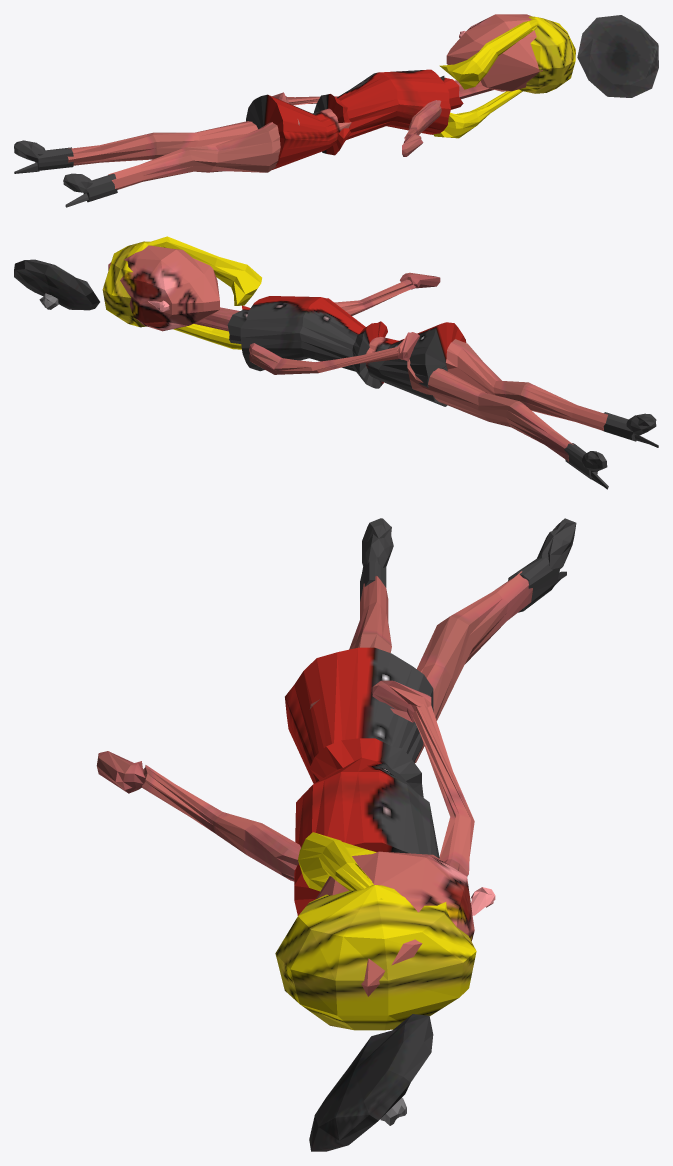
Rendered from RogaSlp.glb.
3 renders of one model, top to bottom at view 1: azimuth 30°, elevation 25°; view 2: azimuth 150°, elevation 25°; view 3: azimuth 270°, elevation 25°, orthographic. The views are drawn at different scales.
Parts seen in each view (by area): view 1: RogaSlp; view 2: RogaSlp; view 3: RogaSlp.
Part boxes in pixels (<box>): RogaSlp: <box>14,14,658,207</box>; RogaSlp: <box>14,236,658,489</box>; RogaSlp: <box>96,518,576,1151</box>.
Bounding box in the file's own units: 313 × 47.66 × 109.
1 material, 1 textured.
